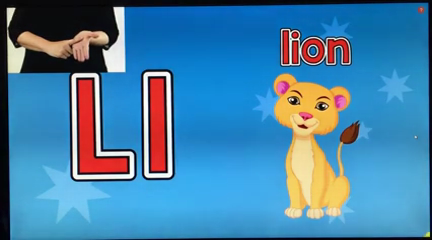L: (41, 25, 105, 66)
